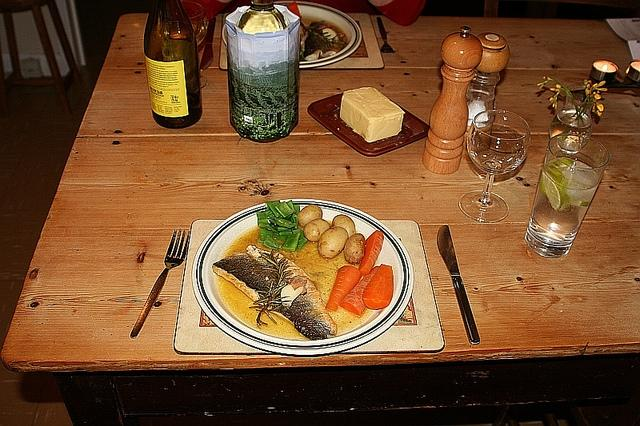carrot: (339, 266, 380, 316), (326, 265, 362, 312), (362, 264, 394, 310), (358, 230, 384, 276), (282, 1, 302, 19)
